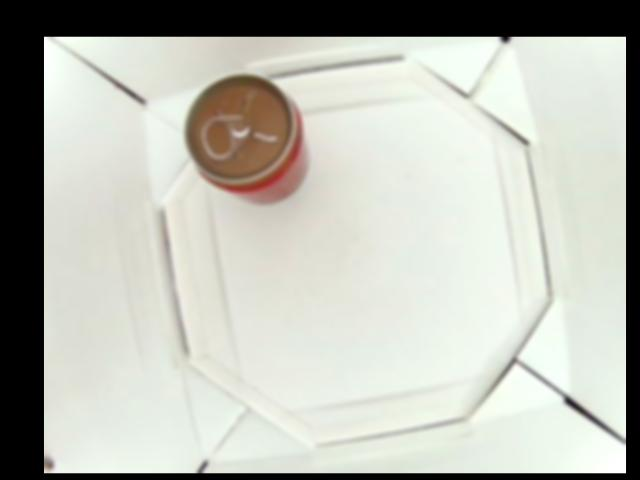Bottle: (184, 73, 312, 204)
